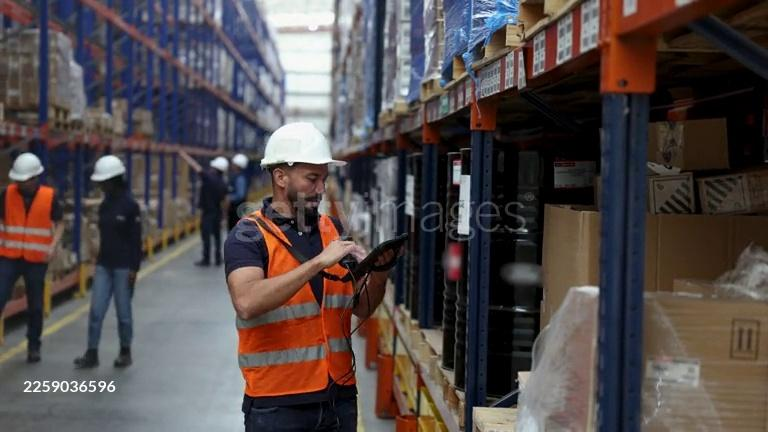helmet: (262, 124, 346, 169), (9, 153, 44, 181), (91, 155, 126, 182), (209, 156, 230, 174), (232, 153, 248, 167)
person: (222, 122, 401, 432), (72, 155, 145, 371), (1, 153, 74, 363), (176, 155, 230, 269), (227, 153, 255, 230)
